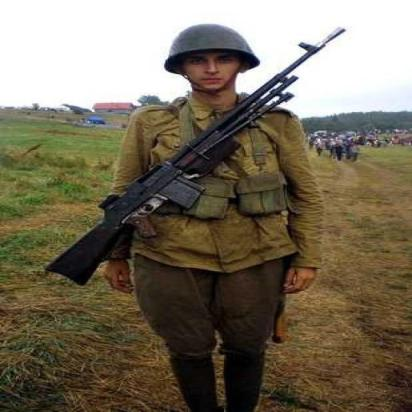Gun: (46, 11, 358, 288)
